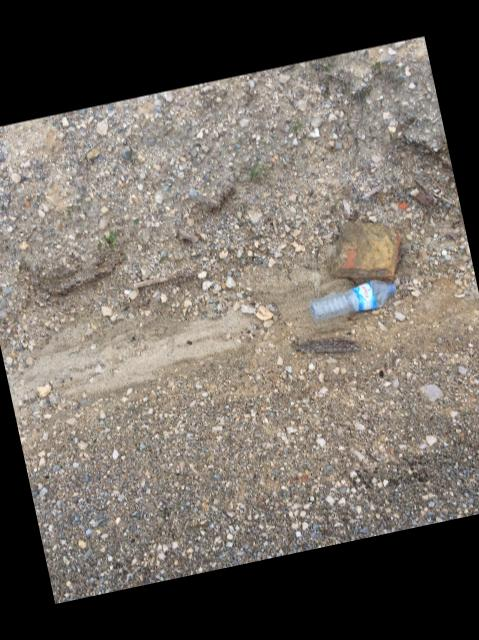plastic: (308, 280, 395, 321)
